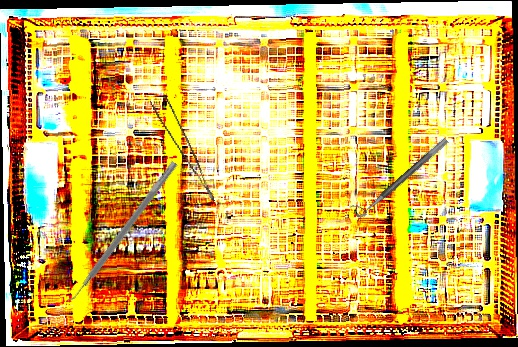Fixation Ring: (348, 129, 450, 221)
Spatula Surgical: (63, 156, 178, 307)
Tissue Forceps: (150, 92, 215, 210)
